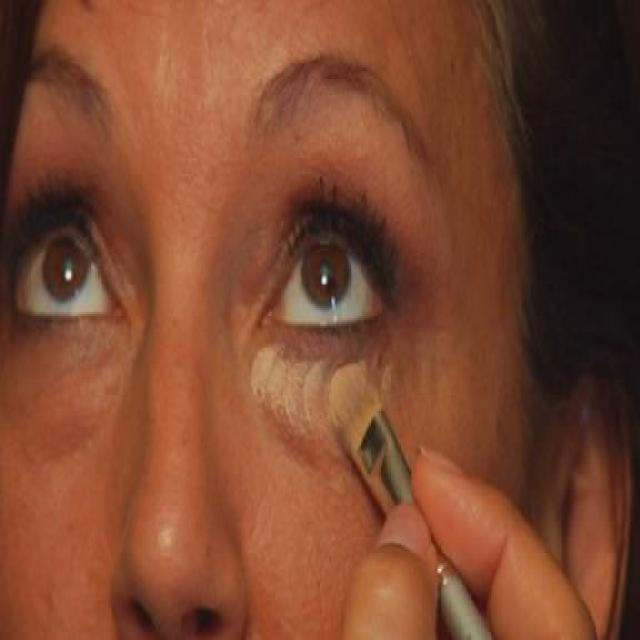Puffy Eyes - v3 Dark Circle: (4, 332, 128, 440)
